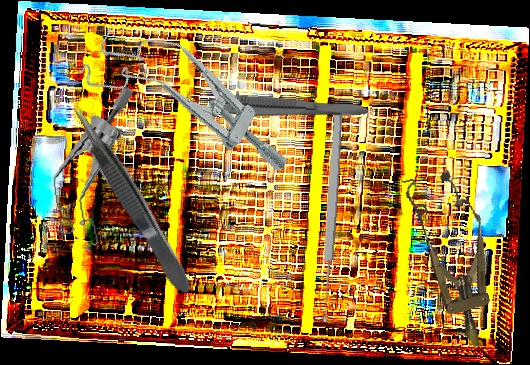Speculum: (74, 7, 312, 188), (399, 165, 511, 355), (38, 85, 154, 259)
Surgical Spoon: (317, 110, 345, 323)
Tissue Forceps: (64, 98, 198, 301), (185, 91, 369, 118)
